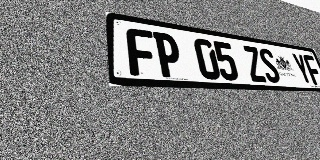0: (193, 38, 221, 80)
5: (212, 41, 240, 81)
F: (126, 27, 158, 77), (302, 54, 320, 85)
P: (153, 31, 184, 78)
S: (257, 47, 282, 83)
Y: (291, 53, 314, 85)
Z: (242, 45, 268, 82)
